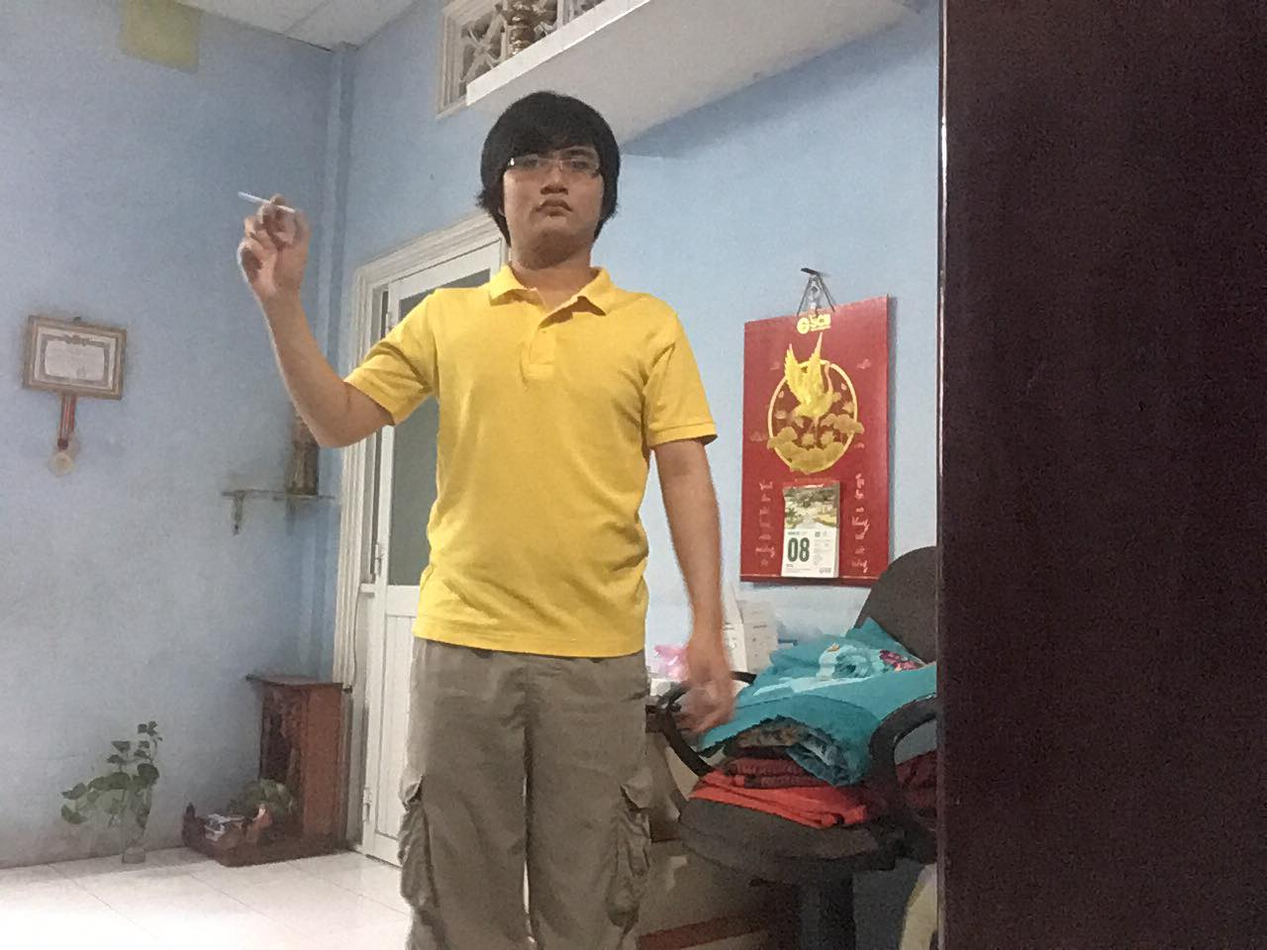cigarette: (233, 186, 269, 208)
person: (223, 129, 750, 945)
